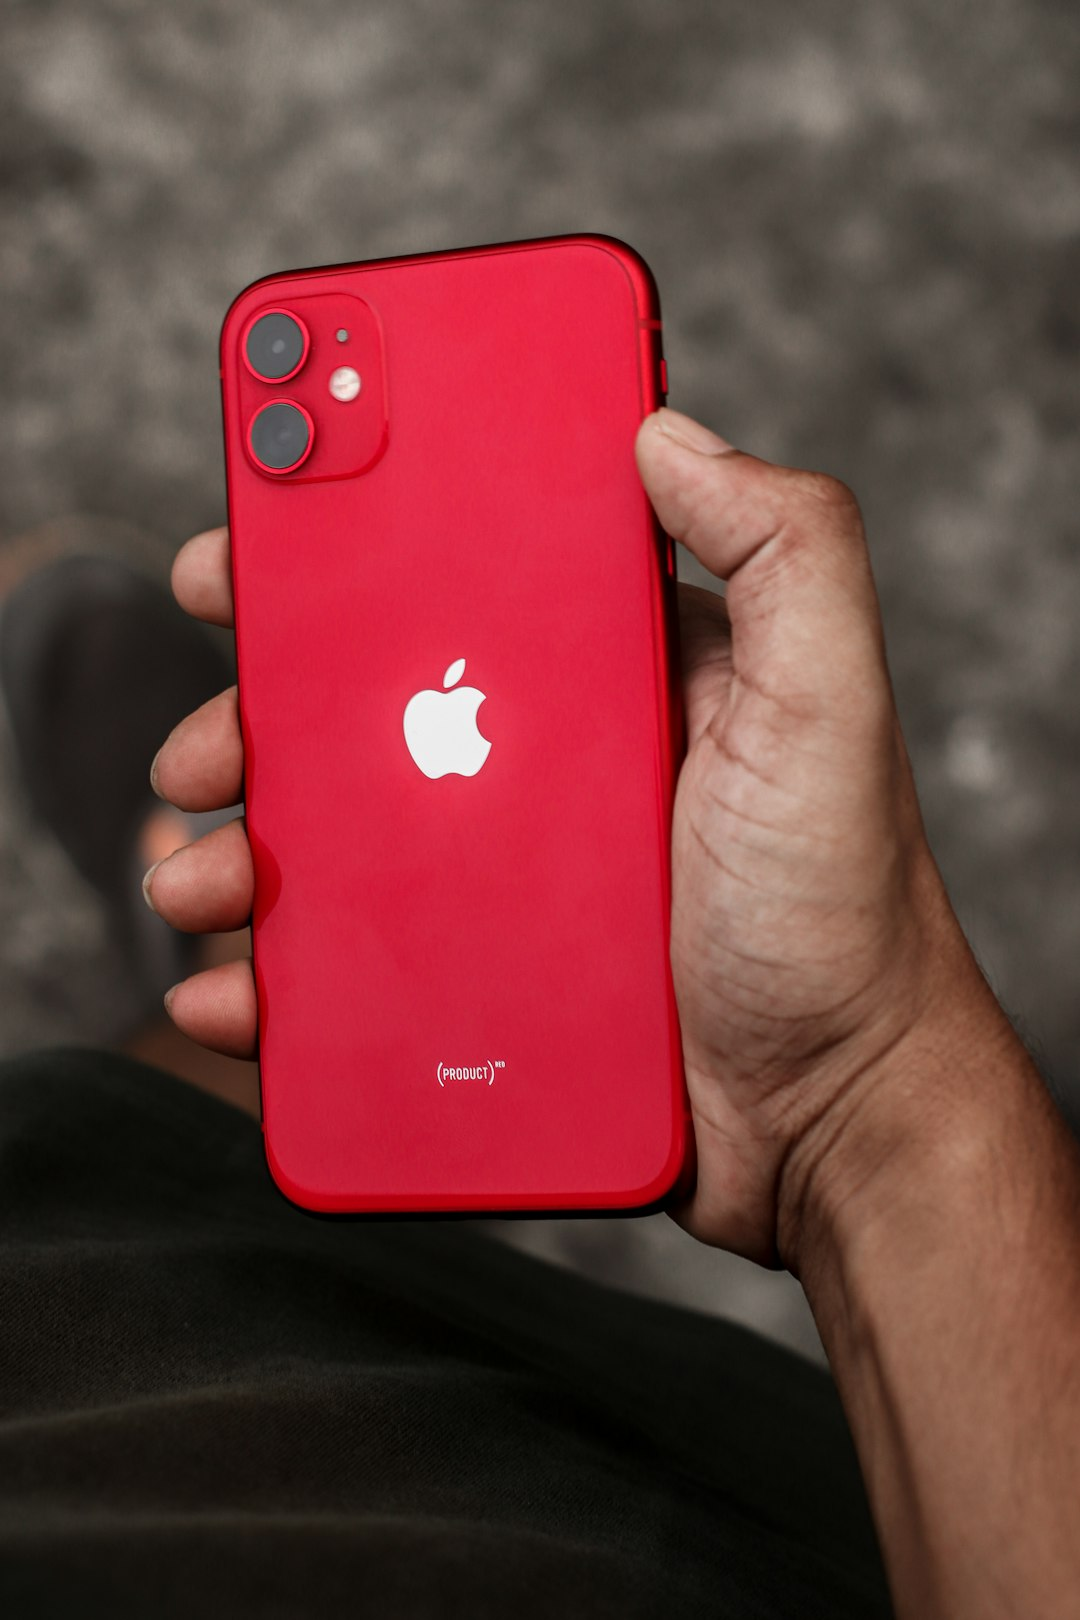phone: (215, 231, 695, 1217)
